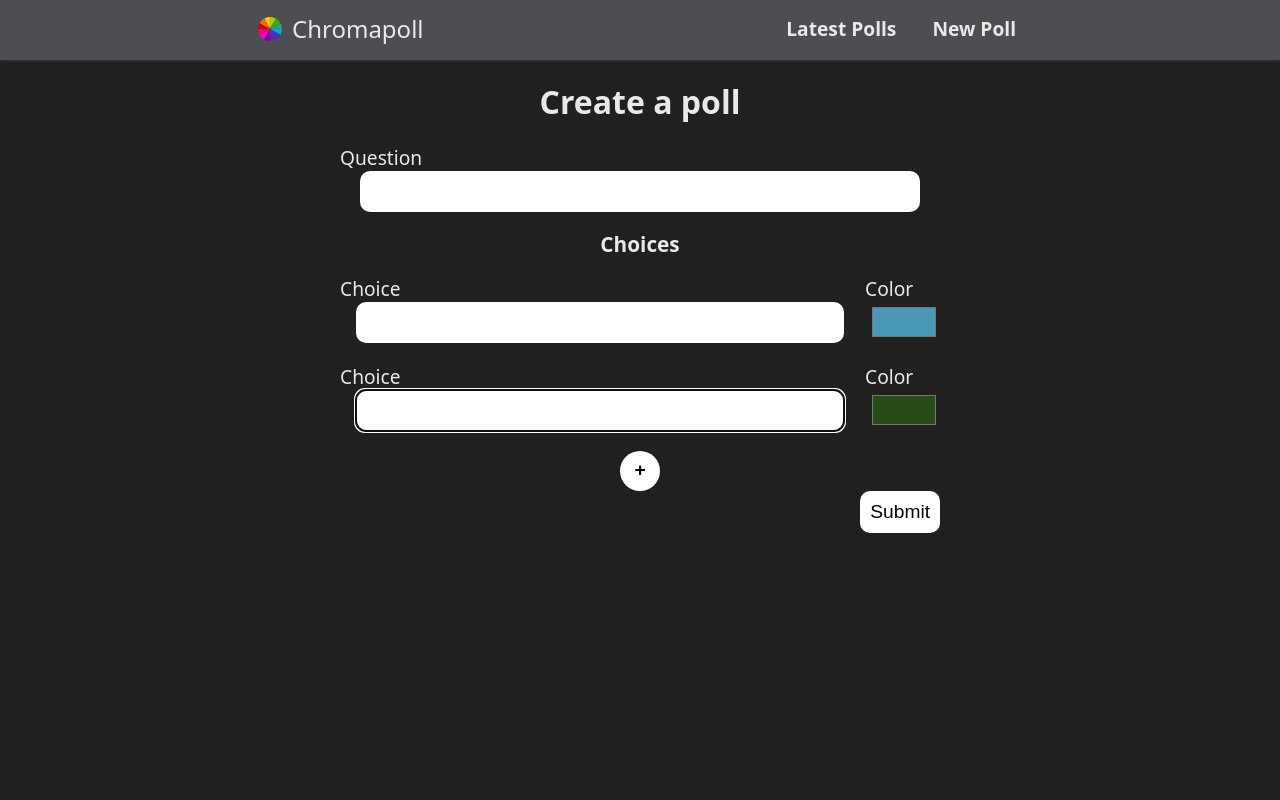
poll creation › does not work with missing title
The width and height of the screenshot is (1280, 800).
Type "option a" into the field with id "choice0Name".
click(600, 323); type("option a")  # box [356, 302, 844, 343]
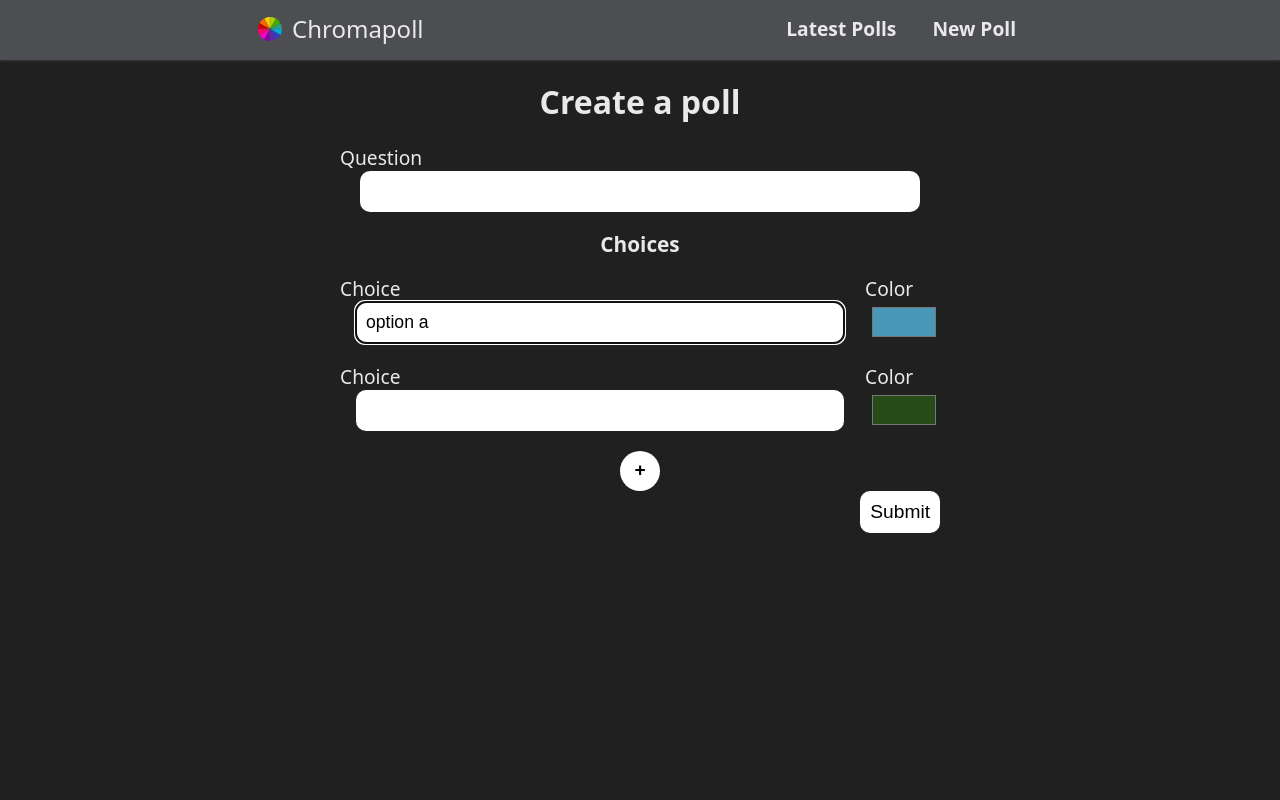
Type "option b" into the field with id "choice1Name".
click(600, 411); type("option b")  # box [356, 390, 844, 431]
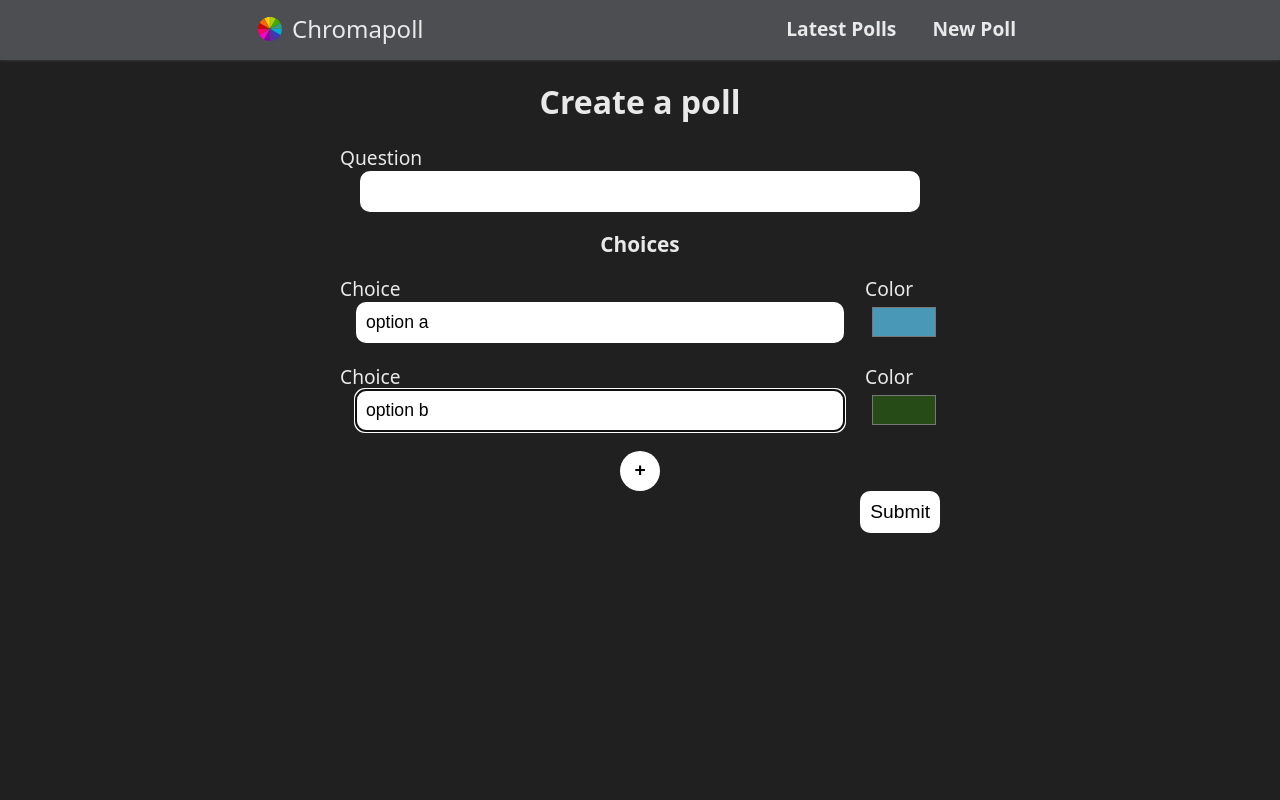
Click the button with id "submit-button".
click(900, 512)  # box [860, 491, 940, 533]
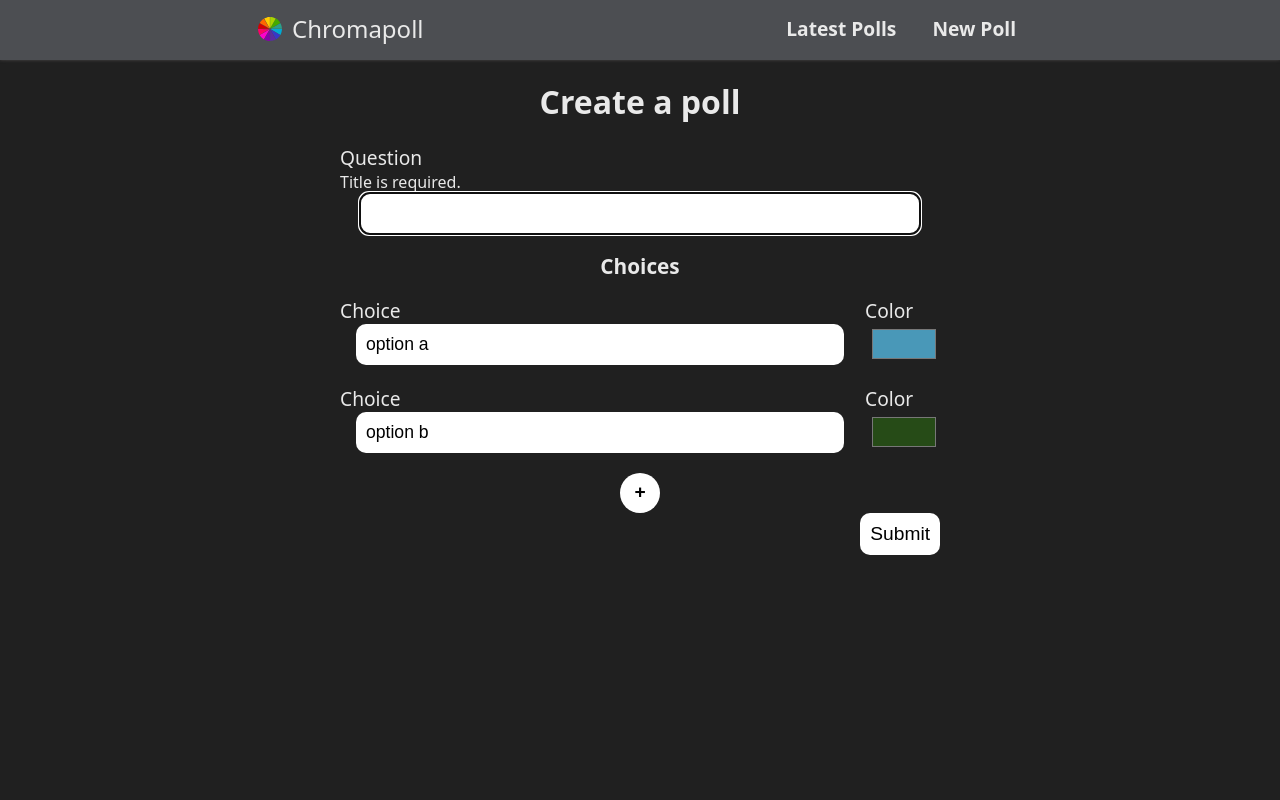
Expected: the text "Title is required." is shown, [340, 171, 461, 193]
